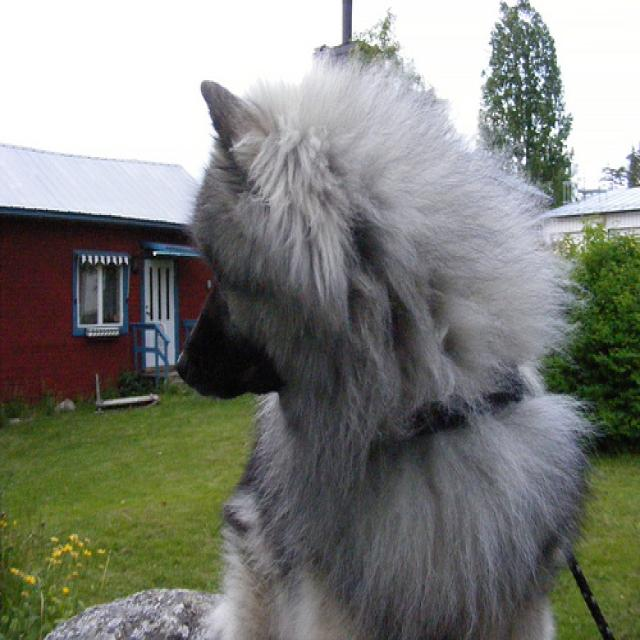dog: (175, 79, 366, 398)
